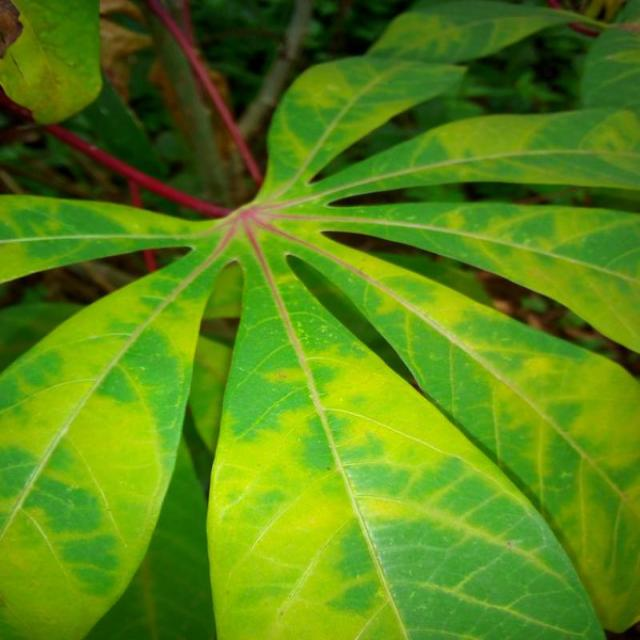cassava leaf: (0, 1, 638, 639), (204, 229, 608, 638)
